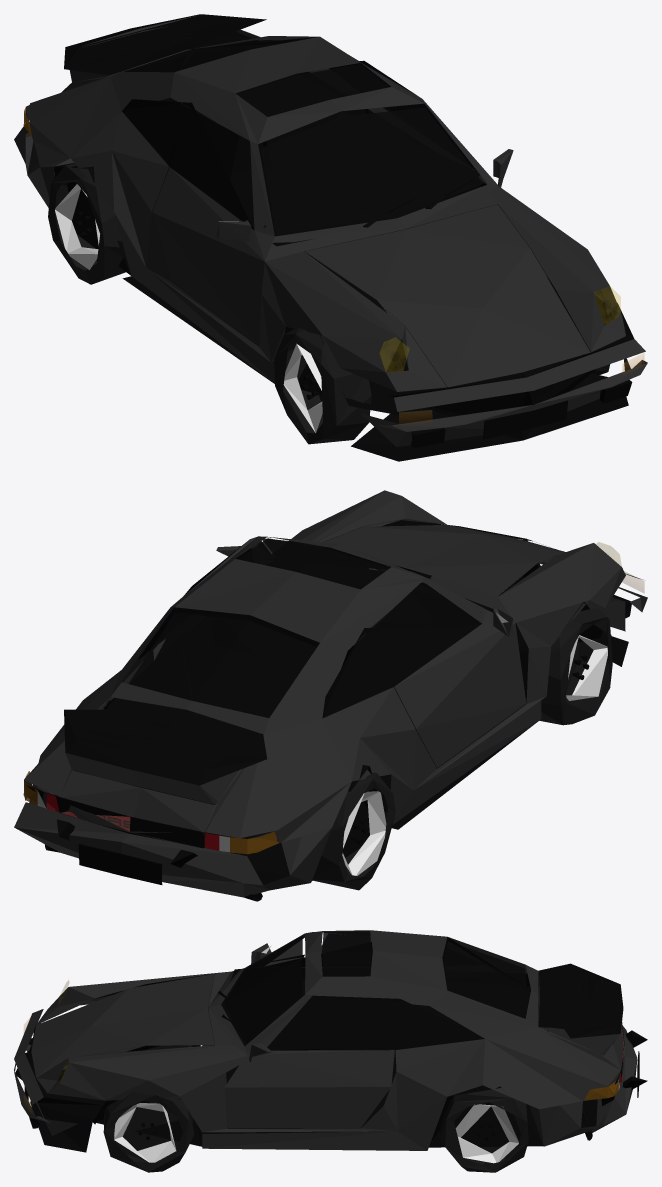
Rendered from porsche_930.lod1.glb.
The picture shows the model from 3 angles, top to bottom: view 1: azimuth 30°, elevation 25°; view 2: azimuth 150°, elevation 25°; view 3: azimuth 270°, elevation 25°; orthographic projection. The views are drawn at different scales.
Visible parts, largest first — view 1: Object_8, Object_18, Object_4, Object_15, Object_30, Object_29, Object_16, Object_6; view 2: Object_8, Object_18, Object_4, Object_15, Object_30, Object_29, Object_12; view 3: Object_8, Object_18, Object_4, Object_15, Object_30, Object_29, Object_12.
Boxes of the visible parts, bbox=[...] form: Object_8: bbox=[14, 15, 647, 446]; Object_18: bbox=[125, 40, 483, 233]; Object_4: bbox=[64, 14, 634, 447]; Object_15: bbox=[54, 21, 628, 461]; Object_30: bbox=[48, 163, 610, 444]; Object_29: bbox=[55, 184, 322, 432]; Object_16: bbox=[380, 286, 620, 371]; Object_6: bbox=[399, 353, 644, 424]; Object_8: bbox=[14, 490, 647, 897]; Object_18: bbox=[128, 538, 449, 717]; Object_4: bbox=[26, 520, 631, 901]; Object_15: bbox=[90, 518, 628, 884]; Object_30: bbox=[55, 608, 612, 890]; Object_29: bbox=[342, 635, 607, 875]; Object_12: bbox=[23, 771, 278, 854]; Object_8: bbox=[14, 930, 637, 1150]; Object_18: bbox=[224, 931, 527, 1048]; Object_4: bbox=[15, 937, 647, 1141]; Object_15: bbox=[30, 967, 609, 1152]; Object_30: bbox=[103, 1045, 528, 1172]; Object_29: bbox=[114, 1103, 518, 1163]; Object_12: bbox=[584, 1079, 618, 1100].
Bounding box in the file's own units: 1.37 × 1.01 × 3.38.
Materials: 13 (3 with a texture image).
